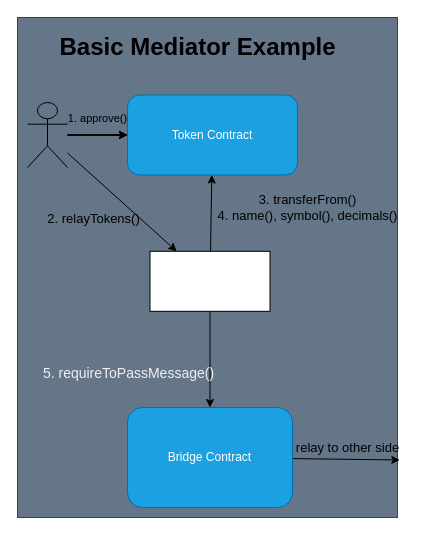
Image size: 426x535. Some labels were removed from this diagram. Here are the shapes that lost their labels. From the top down, the box of each, then its label:
(26, 102, 68, 168): User
(149, 250, 270, 311): Mediator Contract
